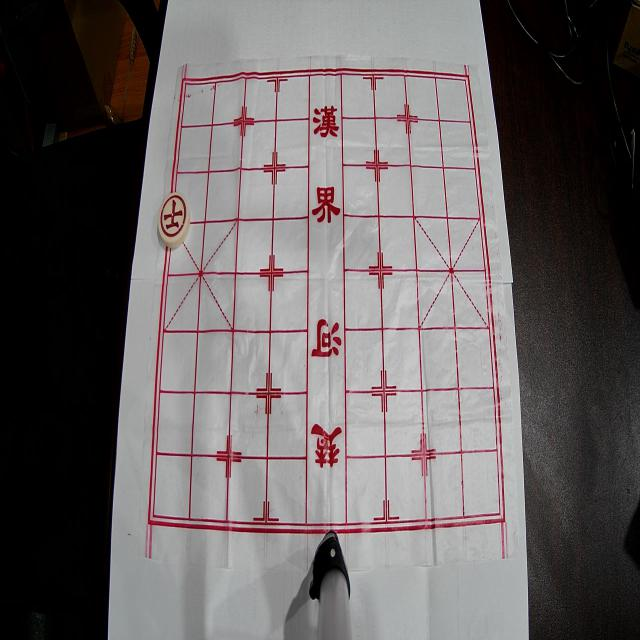red-guard: (158, 192, 190, 248)
